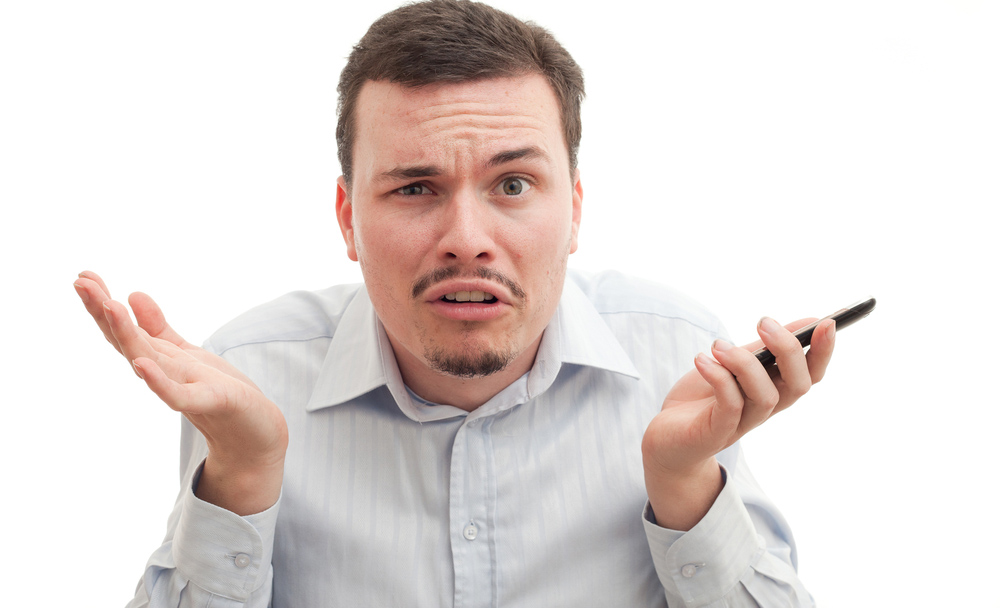confused: (335, 121, 573, 383)
